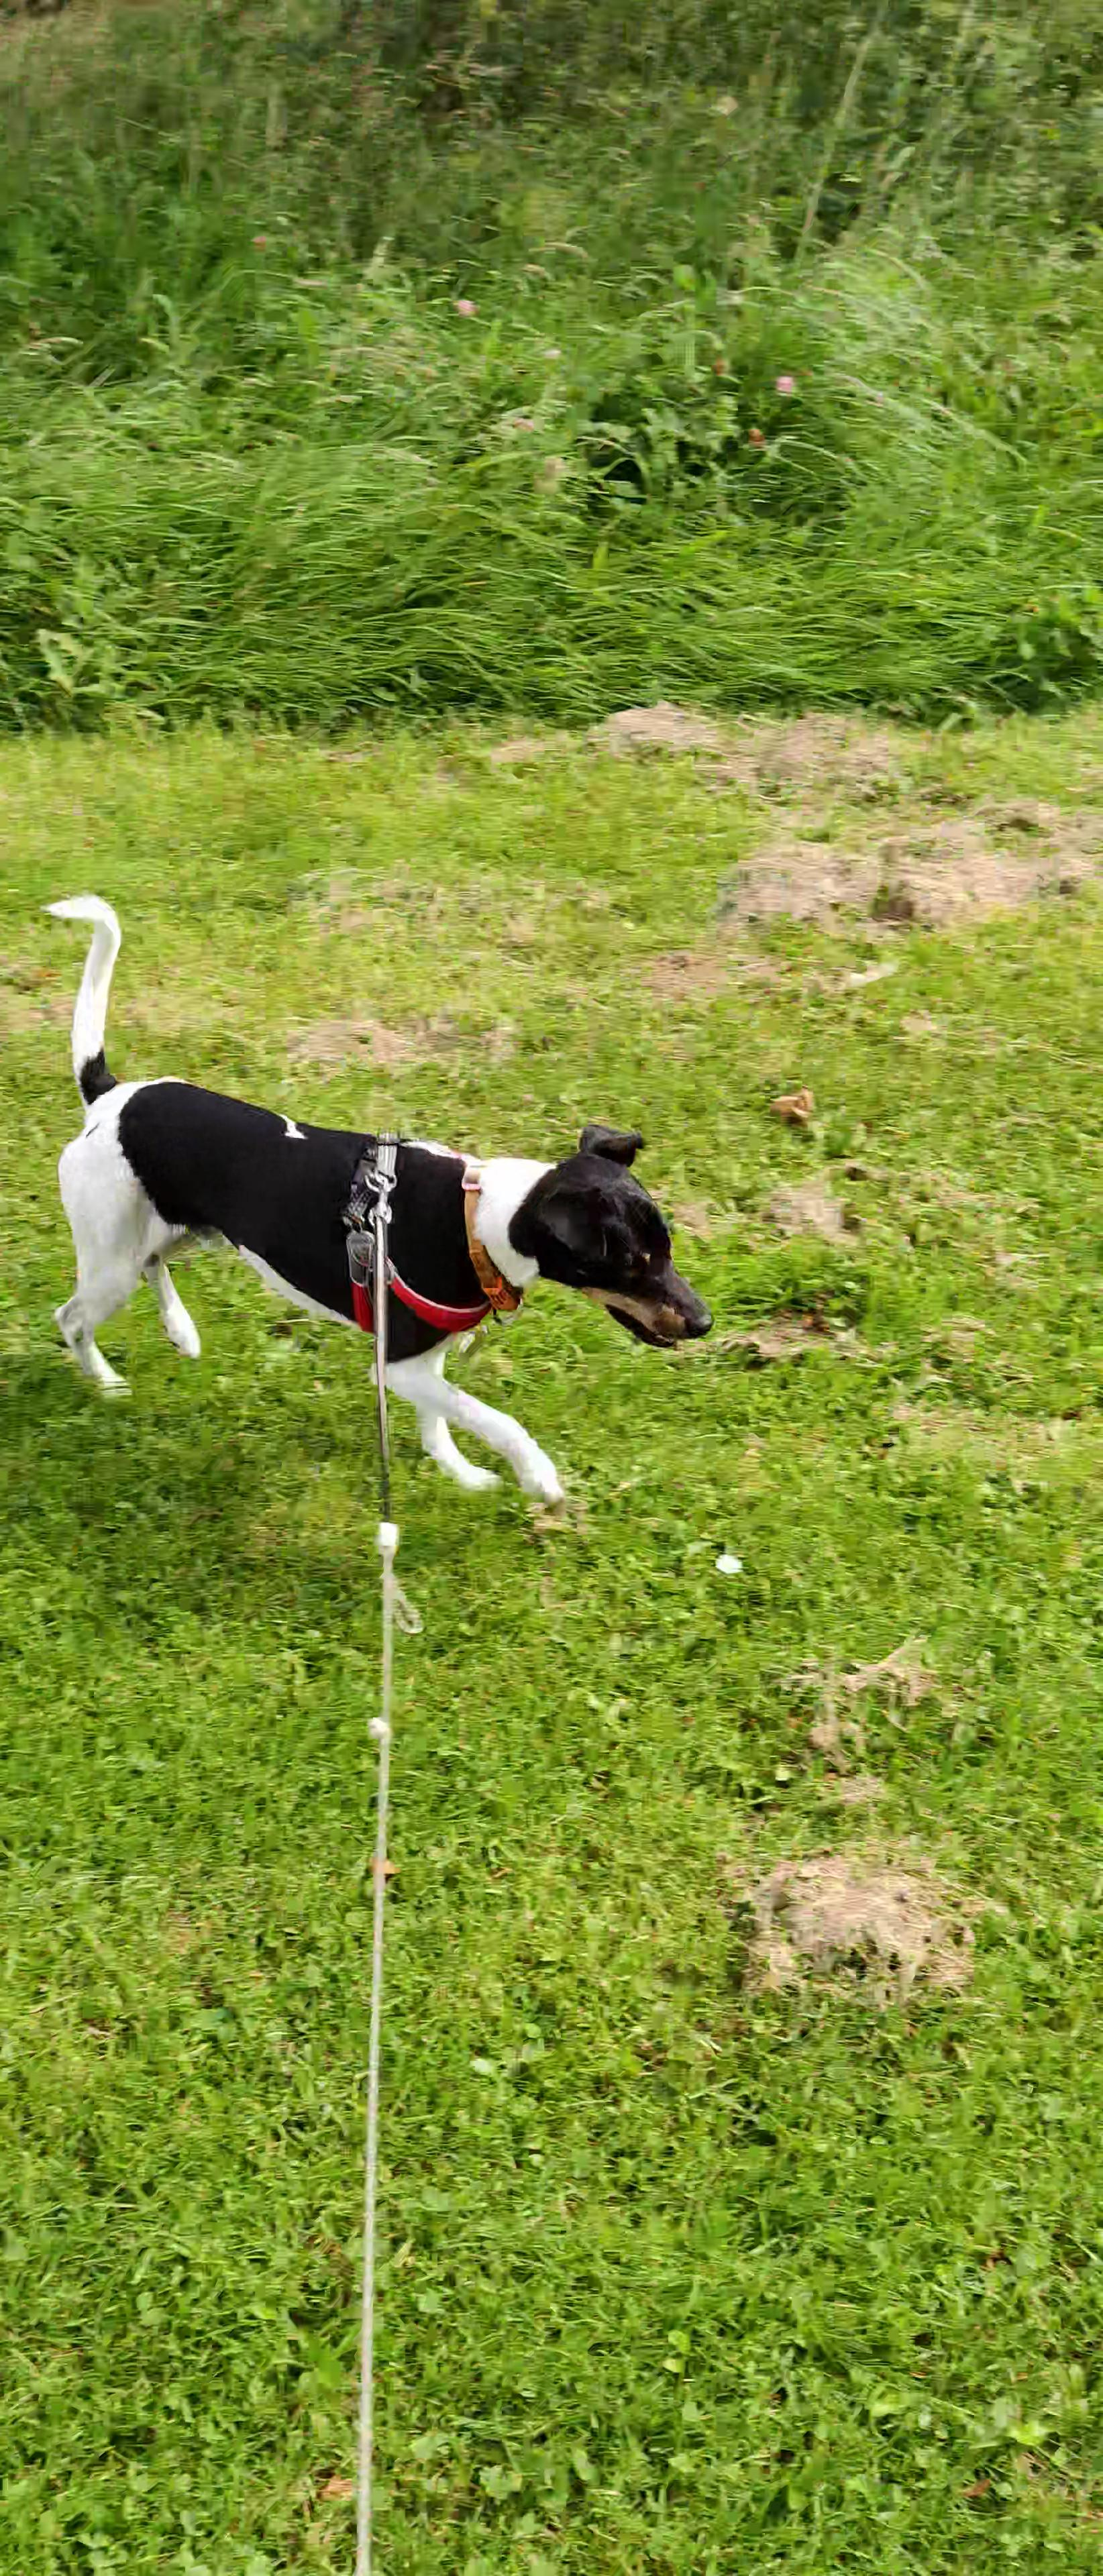Dog: (13, 858, 740, 1544)
